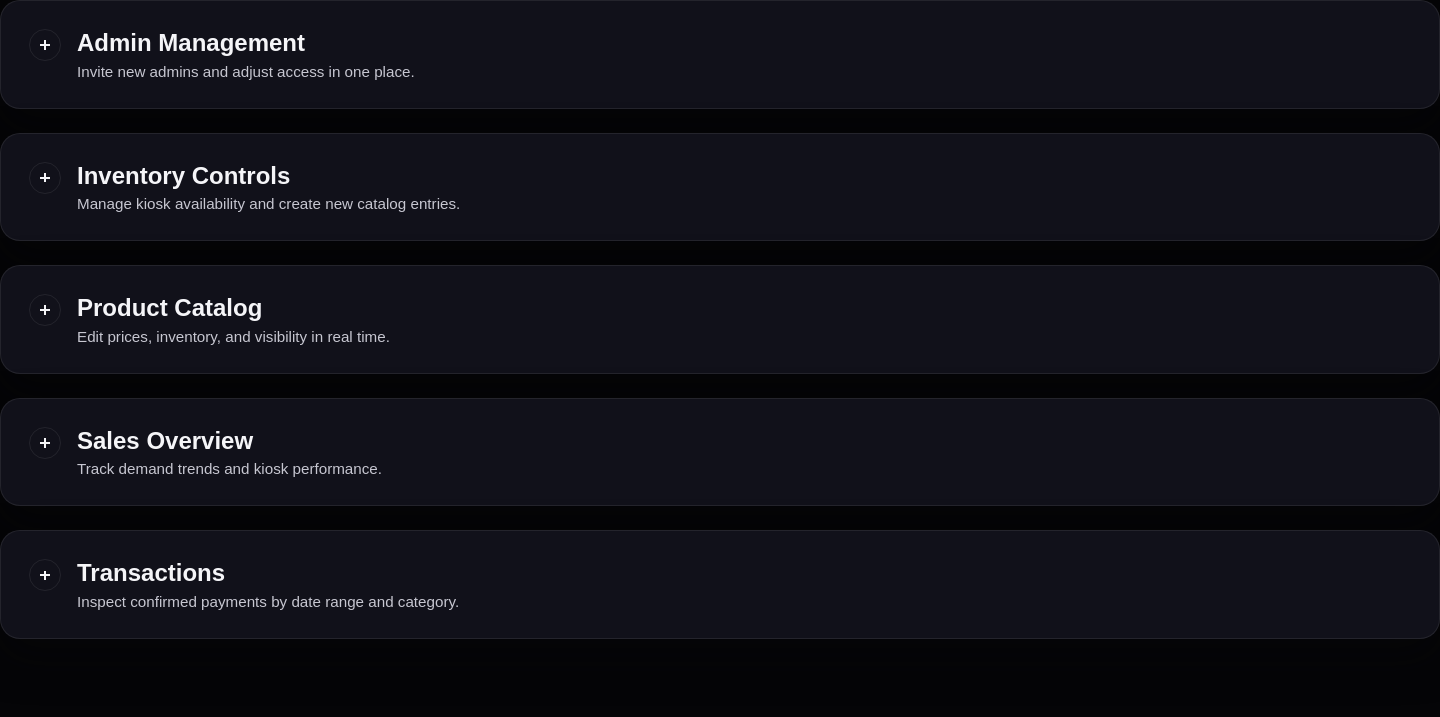
Test: AdminDashboard › submits a new admin invite through the panel
Click the button "Admin Management" at (45,45), box left=29, top=29, right=1411, bottom=80
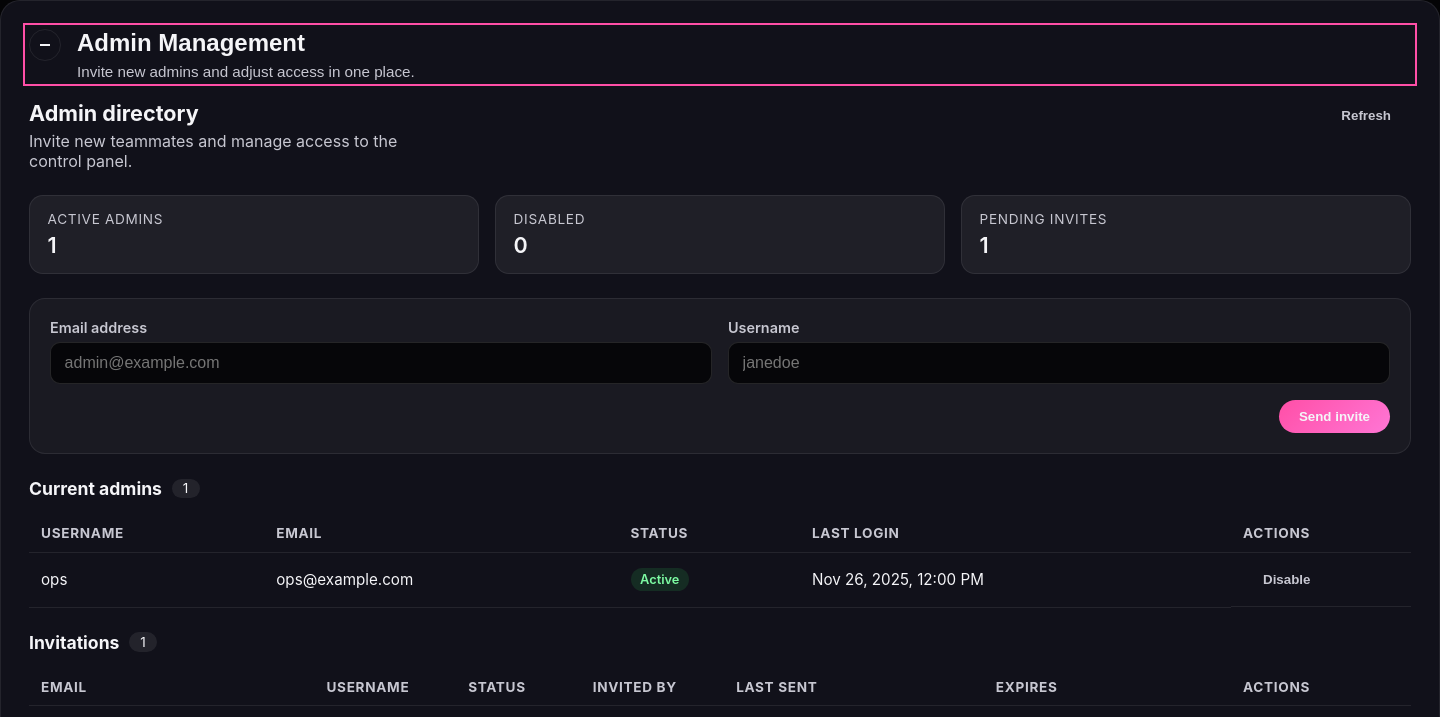
Type "fresh-admin@example.com" into the field labelled "Email address" at (381,363), box left=50, top=342, right=712, bottom=384
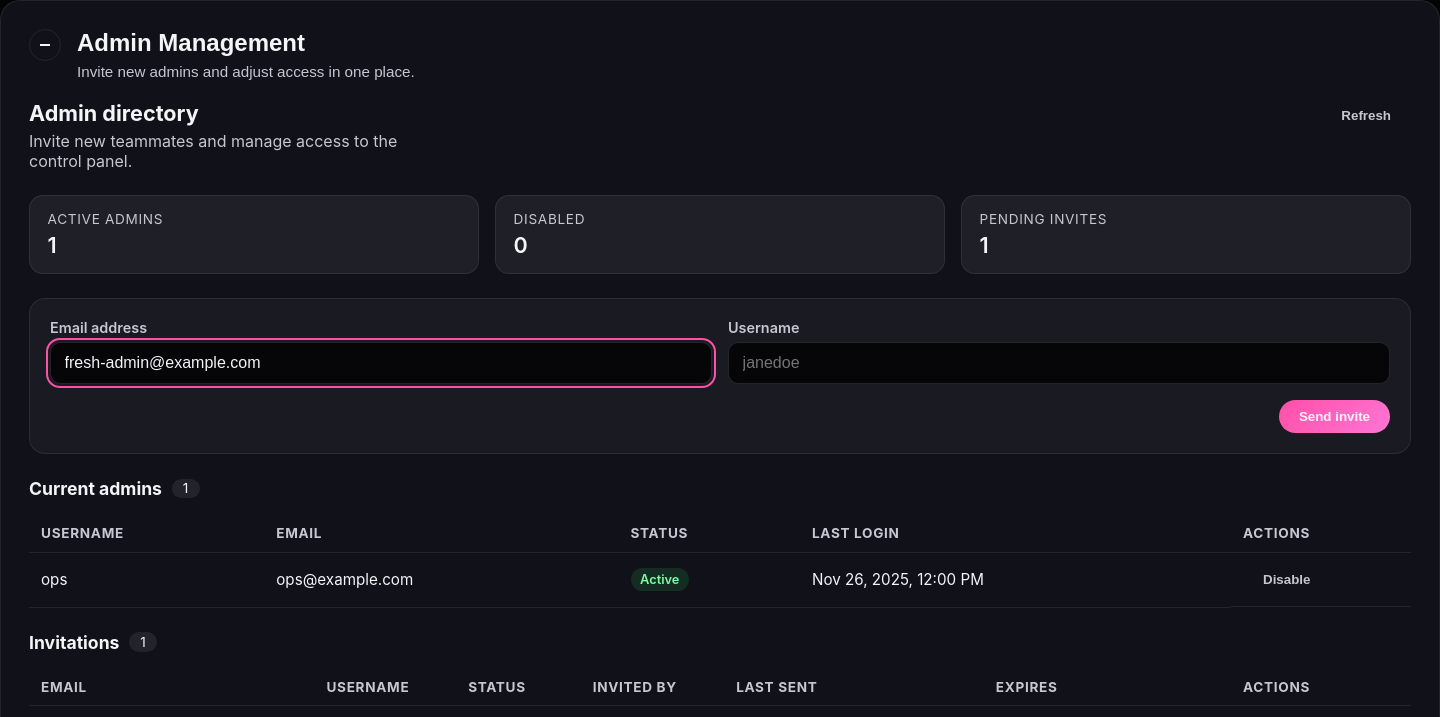
Type "freshadmin" into the field labelled "Username" at (1059,363), box left=728, top=342, right=1390, bottom=384
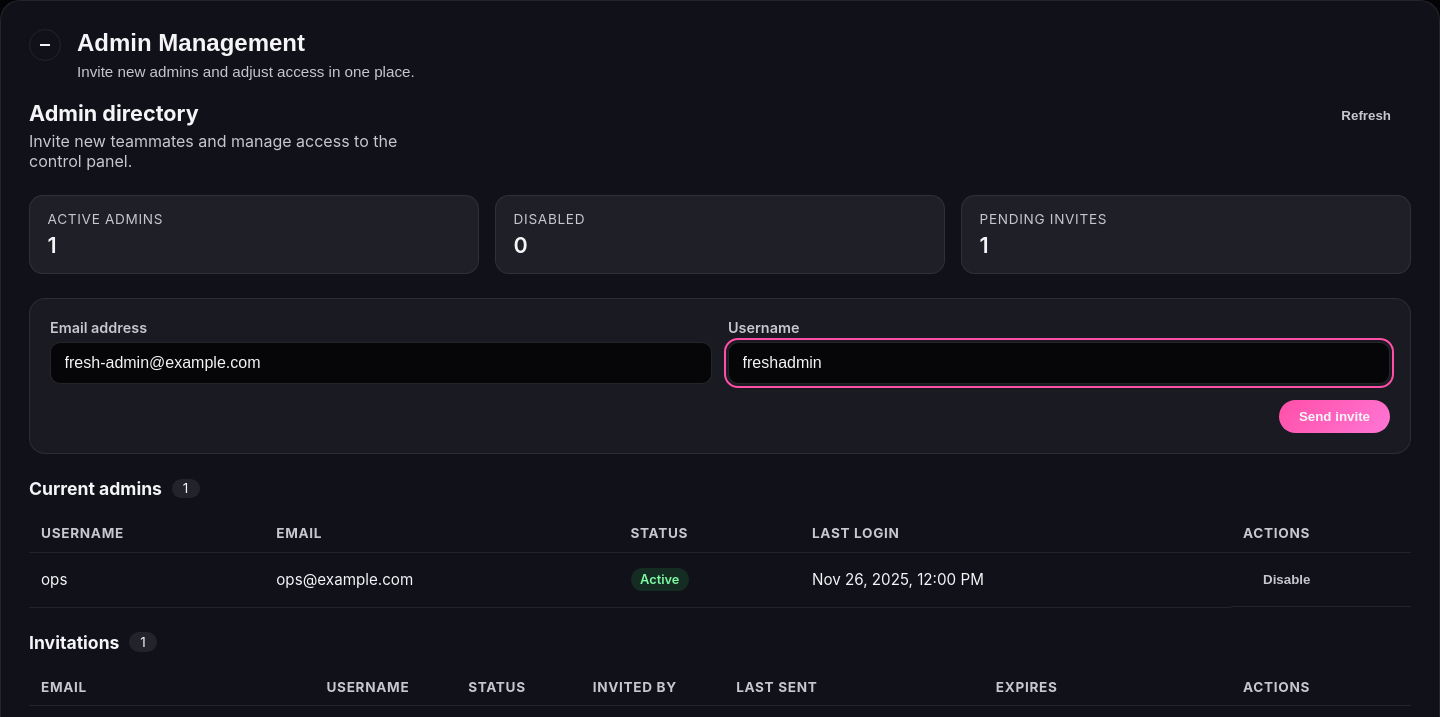
Click the button "Send invite" at (1334,417), box left=1279, top=400, right=1390, bottom=433
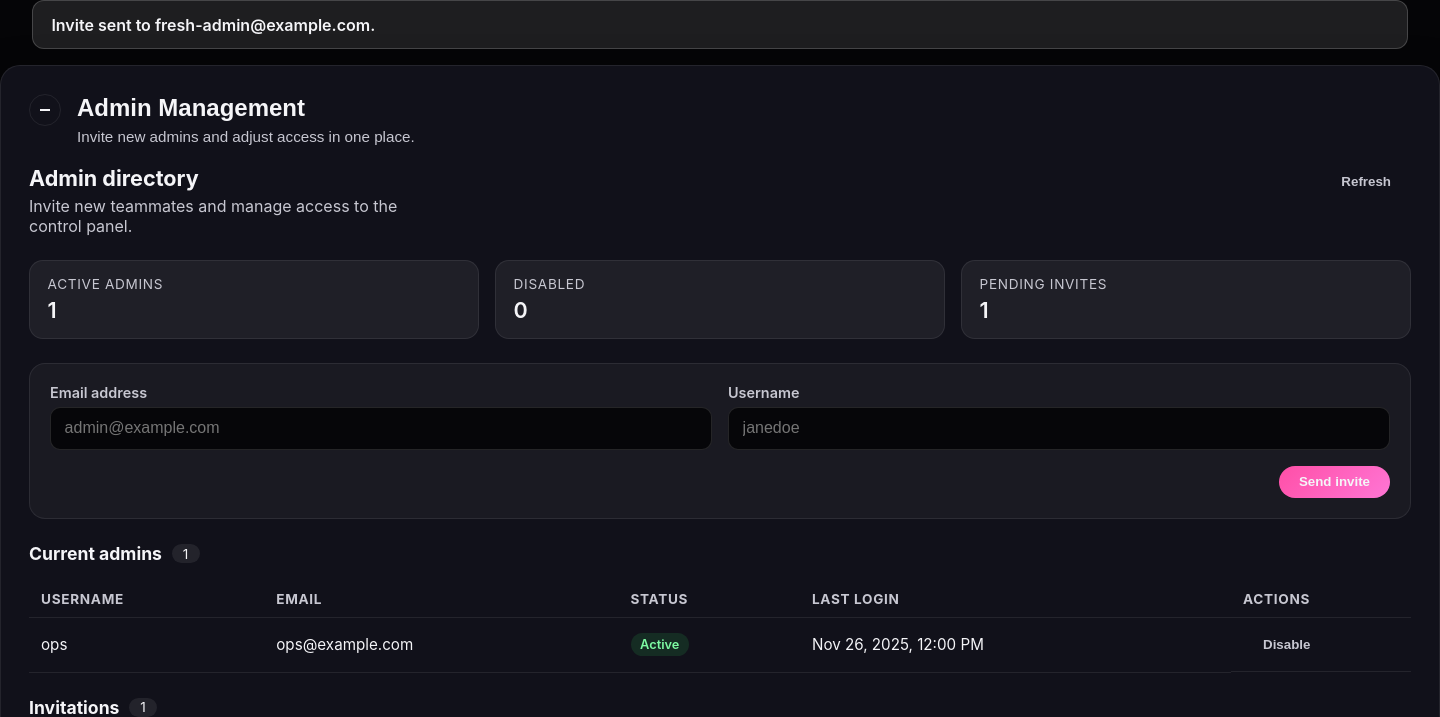
Now the text "Invite sent to fresh-admin@example.com." is shown, box left=32, top=0, right=1408, bottom=49
